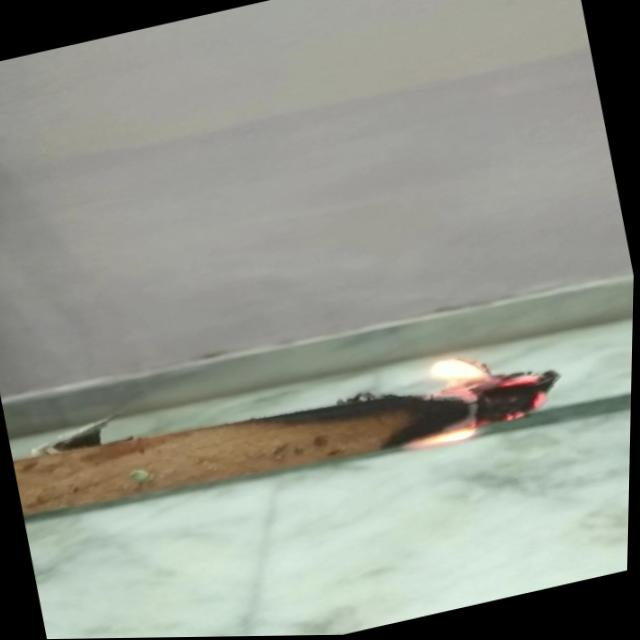fire: (387, 332, 572, 457)
